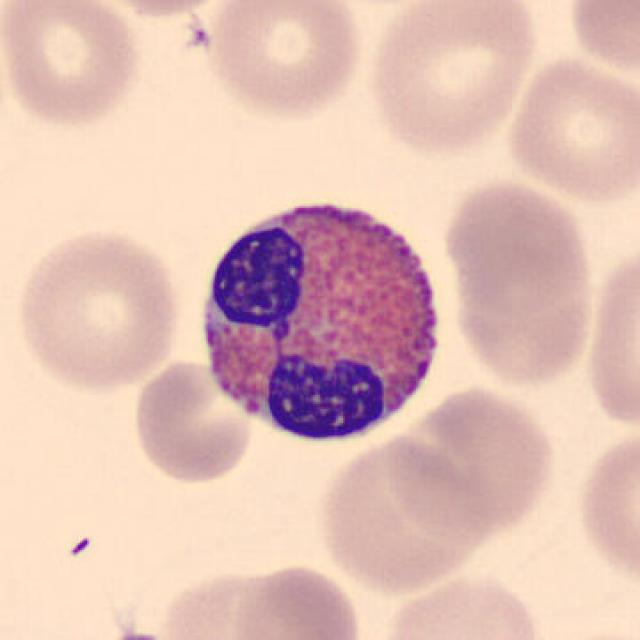Eosinophil: (185, 180, 457, 460)
RBC: (441, 175, 599, 393), (10, 224, 186, 395), (311, 428, 489, 596), (380, 383, 560, 543), (362, 0, 540, 157), (195, 0, 368, 123), (502, 51, 638, 206), (0, 0, 146, 132), (128, 358, 256, 488), (156, 564, 324, 640), (372, 569, 548, 640), (581, 234, 640, 439), (571, 422, 638, 600), (228, 559, 366, 640), (560, 0, 640, 81), (85, 0, 243, 19), (530, 624, 638, 640)
